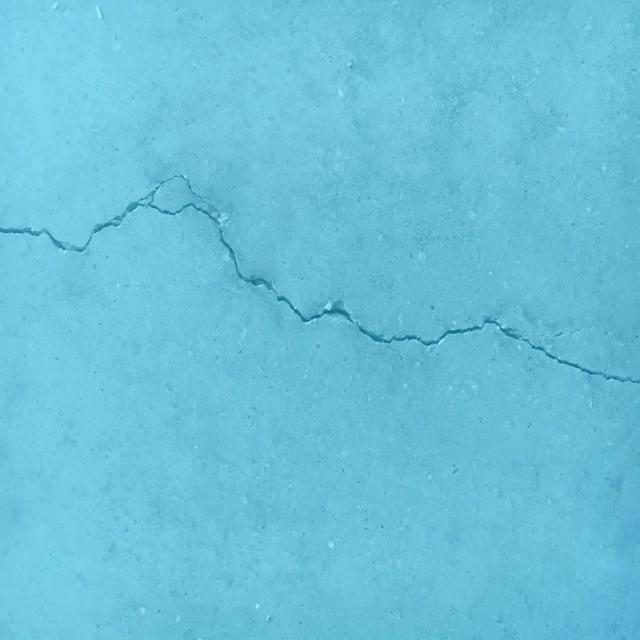crack: (0, 173, 640, 384)
